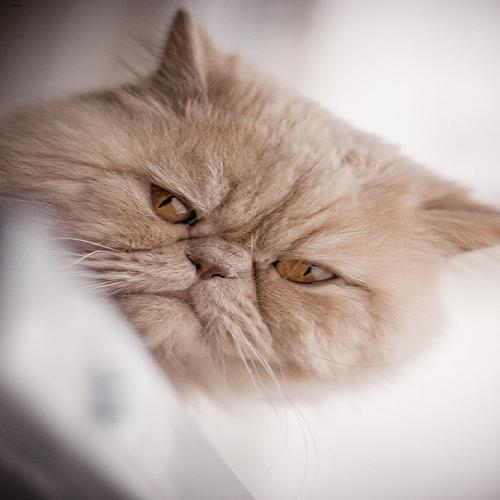persian: (22, 7, 500, 423)
